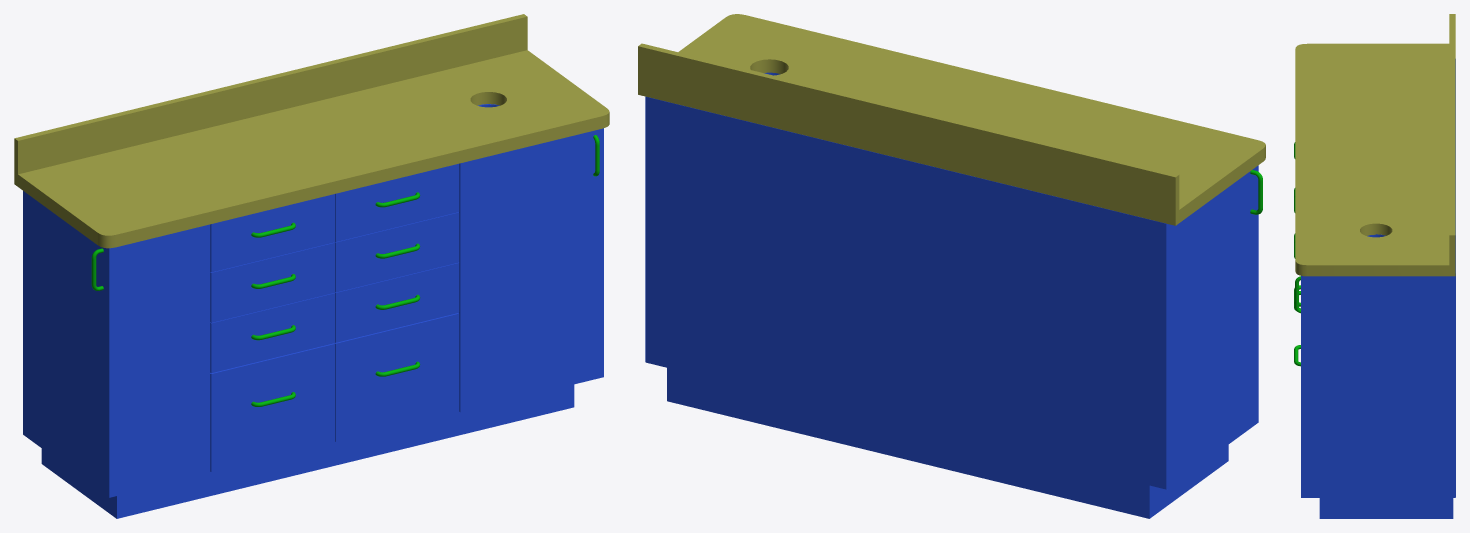
Rendered from Cabinet 5 V2.FBX.
3 views of the same model, side by side, from view 1: azimuth 30°, elevation 25°; view 2: azimuth 150°, elevation 25°; view 3: azimuth 270°, elevation 25° (orthographic). The views are drawn at different scales.
Parts seen in each view (by area): view 1: Object016, Box182, Object023; view 2: Object016, Box182; view 3: Box182, Object016, Object023.
Part boxes in pixels (left/top/right/bottom): Object016: left=23, top=104, right=603, bottom=518; Box182: left=14, top=14, right=609, bottom=248; Object023: left=91, top=135, right=599, bottom=406; Object016: left=645, top=72, right=1258, bottom=518; Box182: left=638, top=14, right=1265, bottom=225; Box182: left=1295, top=14, right=1455, bottom=276; Object016: left=1301, top=59, right=1455, bottom=518; Object023: left=1294, top=142, right=1300, bottom=366.
Size of the model in its own units: 10.66 by 6.59 by 3.28.
